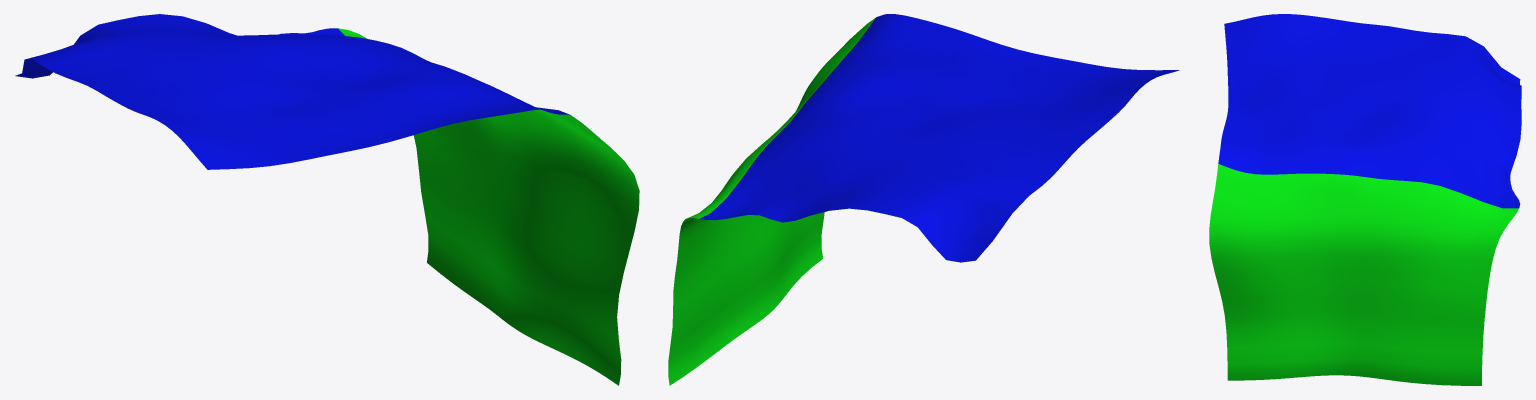
The picture shows the model from 3 angles, left to right: view 1: azimuth 30°, elevation 25°; view 2: azimuth 150°, elevation 25°; view 3: azimuth 270°, elevation 25°; orthographic projection. The views are drawn at different scales.
Visible parts, largest first — view 1: T1; view 2: T1; view 3: T1.
Part boxes in pixels (x1=…): T1: x1=15, y1=14, x2=639, y2=385; T1: x1=668, y1=14, x2=1179, y2=385; T1: x1=1209, y1=14, x2=1521, y2=385.
Size of the model in its own units: 5633 by 4352 by 5228.
